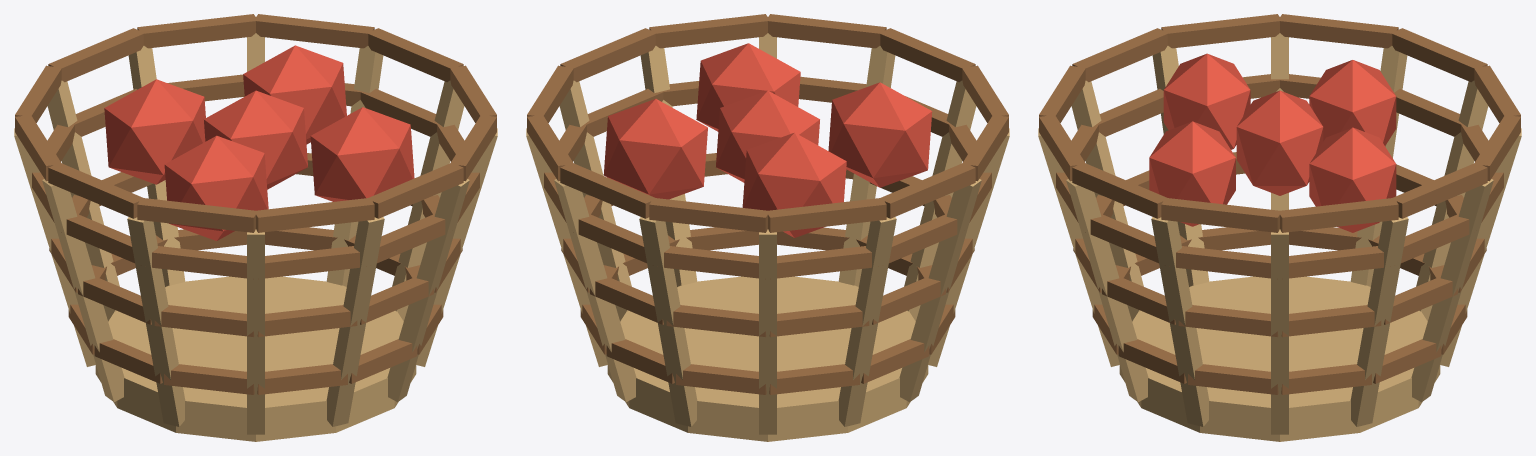
The model's file is TR3_ProduceBasket_Tomato.glb.
3 renders of one model, left to right at view 1: azimuth 30°, elevation 25°; view 2: azimuth 150°, elevation 25°; view 3: azimuth 270°, elevation 25°, orthographic.
Parts seen in each view (by area): view 1: TR3_ProduceBasket_Tomato; view 2: TR3_ProduceBasket_Tomato; view 3: TR3_ProduceBasket_Tomato.
Part boxes in pixels (left/top/right/bottom): TR3_ProduceBasket_Tomato: left=14, top=14, right=497, bottom=441; TR3_ProduceBasket_Tomato: left=526, top=14, right=1009, bottom=441; TR3_ProduceBasket_Tomato: left=1038, top=14, right=1521, bottom=441.
Bounding box in the file's own units: 0.664 × 0.43 × 0.664.
